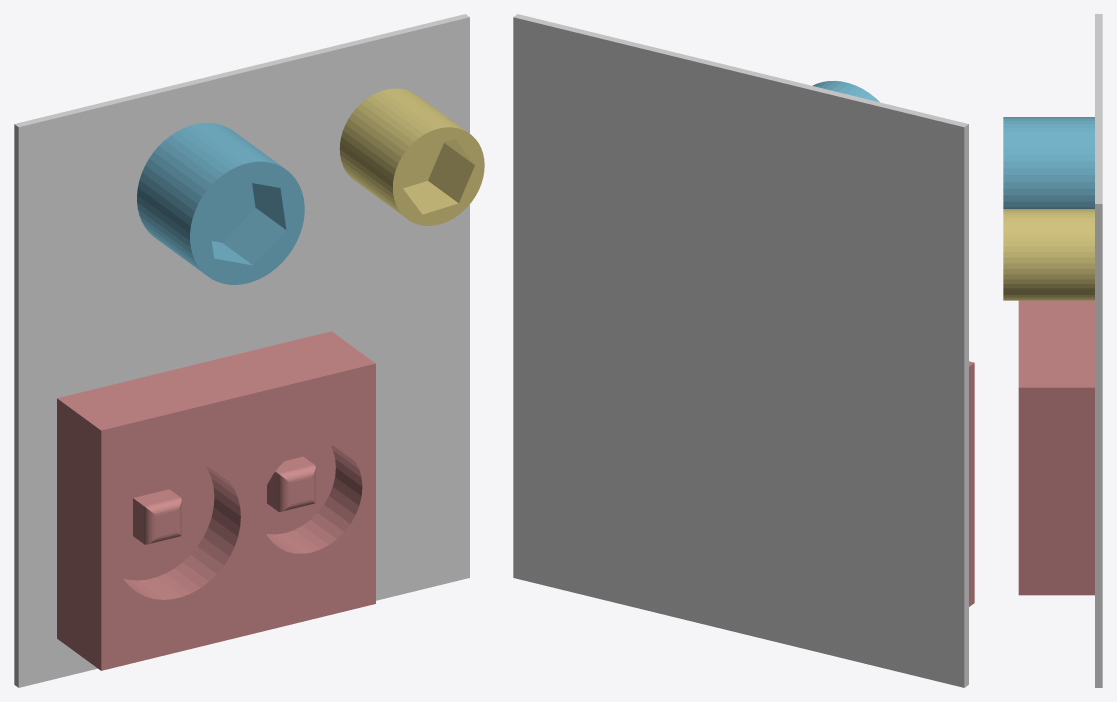
The model's file is pickup_layout.glb.
The picture shows the model from 3 angles, left to right: view 1: azimuth 30°, elevation 25°; view 2: azimuth 150°, elevation 25°; view 3: azimuth 270°, elevation 25°; orthographic projection. The views are drawn at different scales.
Visible parts, largest first — view 1: world, 0.obj, 2.obj, 1.obj; view 2: world, 0.obj; view 3: 0.obj, 2.obj, 1.obj, world.
Boxes of the visible parts, x1,y1,x2,y2 form: world: (14, 14, 469, 687); 0.obj: (57, 331, 375, 670); 2.obj: (137, 123, 304, 284); 1.obj: (339, 88, 484, 225); world: (513, 14, 968, 687); 0.obj: (969, 361, 974, 606); 0.obj: (1018, 300, 1094, 595); 2.obj: (1003, 117, 1094, 208); 1.obj: (1003, 209, 1094, 300); world: (1095, 14, 1102, 687).
Size of the model in its own units: 11.79 by 14 by 2.6.
